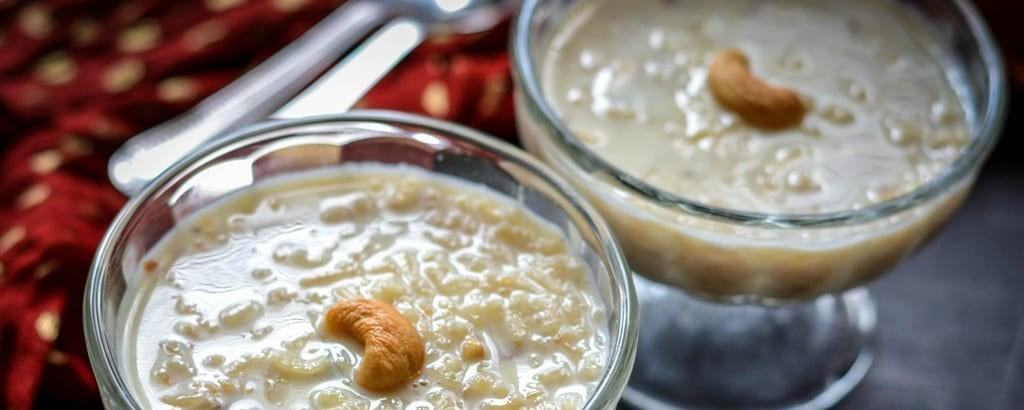Kheer: (525, 0, 977, 297), (119, 169, 607, 410)
